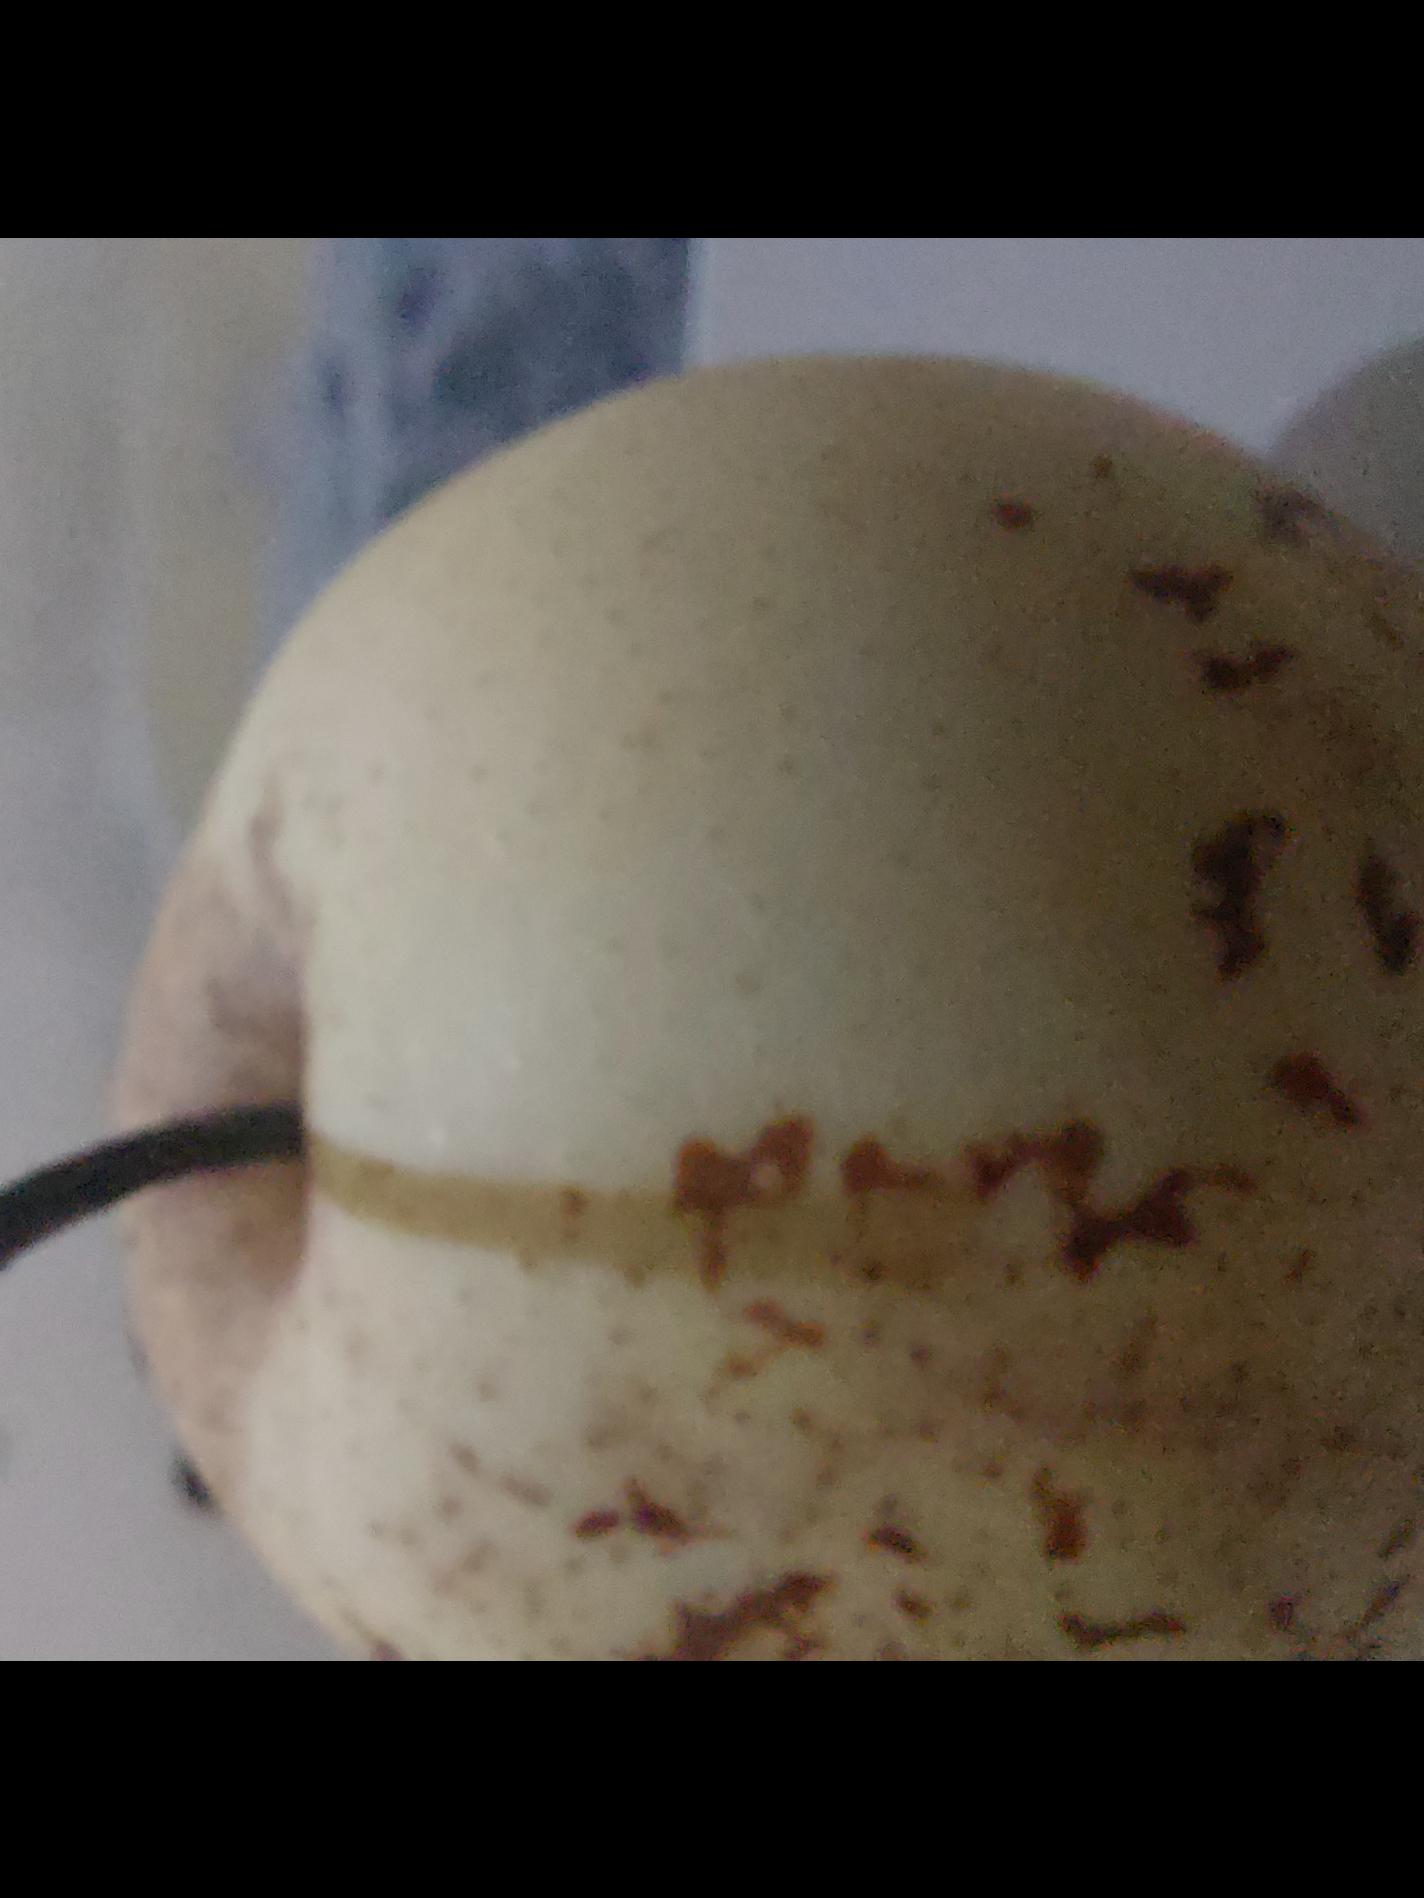Bad Pear: (81, 343, 1424, 1662)
